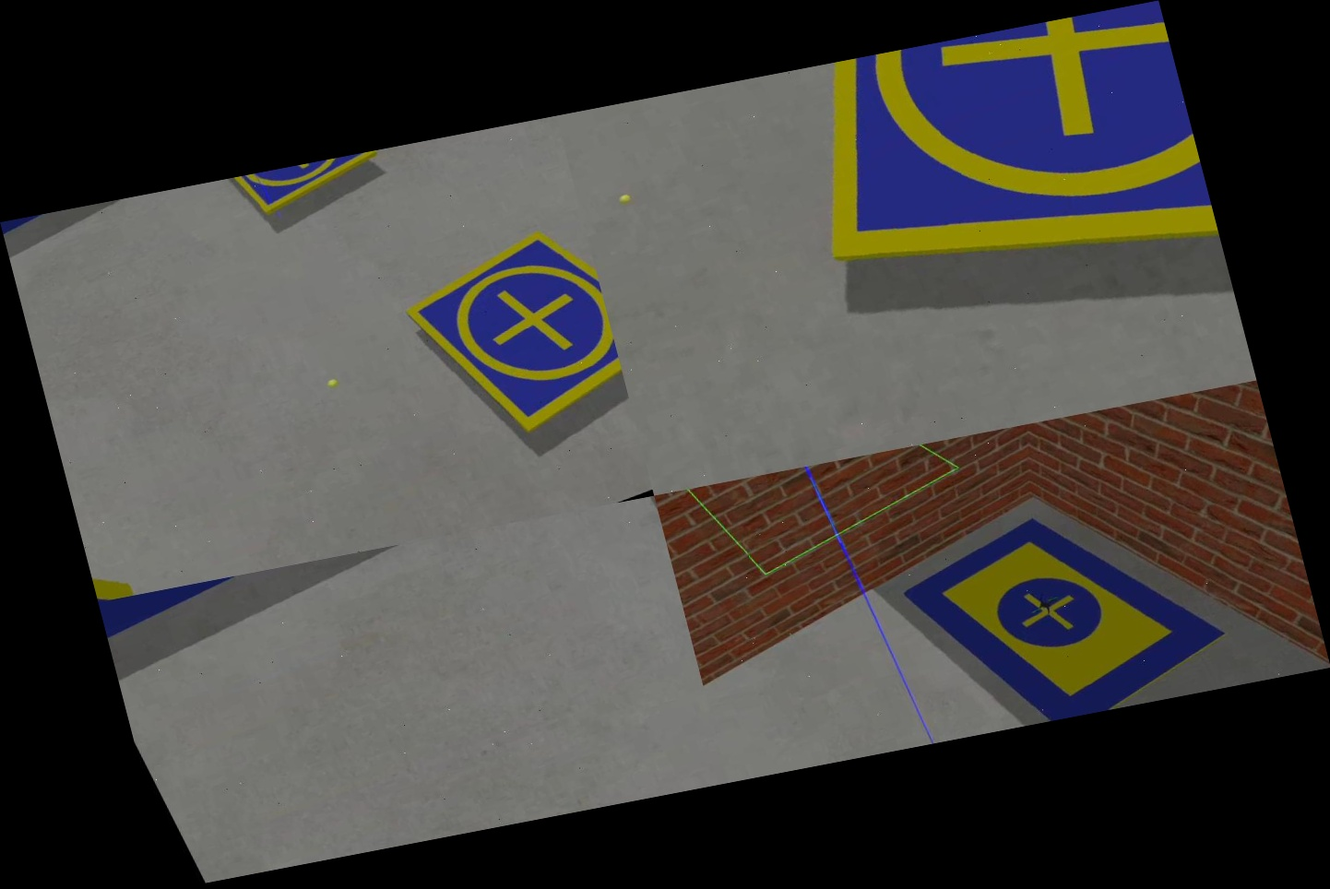large_base: (879, 465, 1250, 742)
small_base: (717, 0, 1244, 421), (381, 205, 635, 457), (216, 148, 394, 227)
